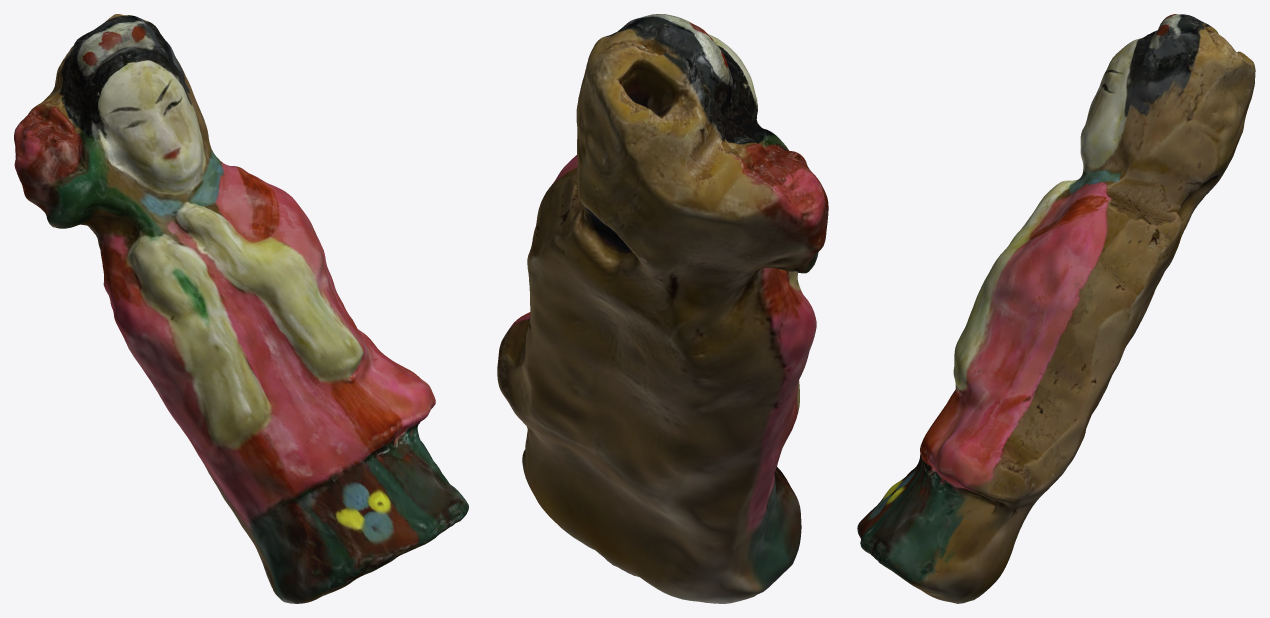
3 views of the same model, side by side, from view 1: azimuth 30°, elevation 25°; view 2: azimuth 150°, elevation 25°; view 3: azimuth 270°, elevation 25° (orthographic). The views are drawn at different scales.
Bounding box in the file's own units: 0.5054 × 0.7558 × 0.5211.
1 material, 1 textured.
